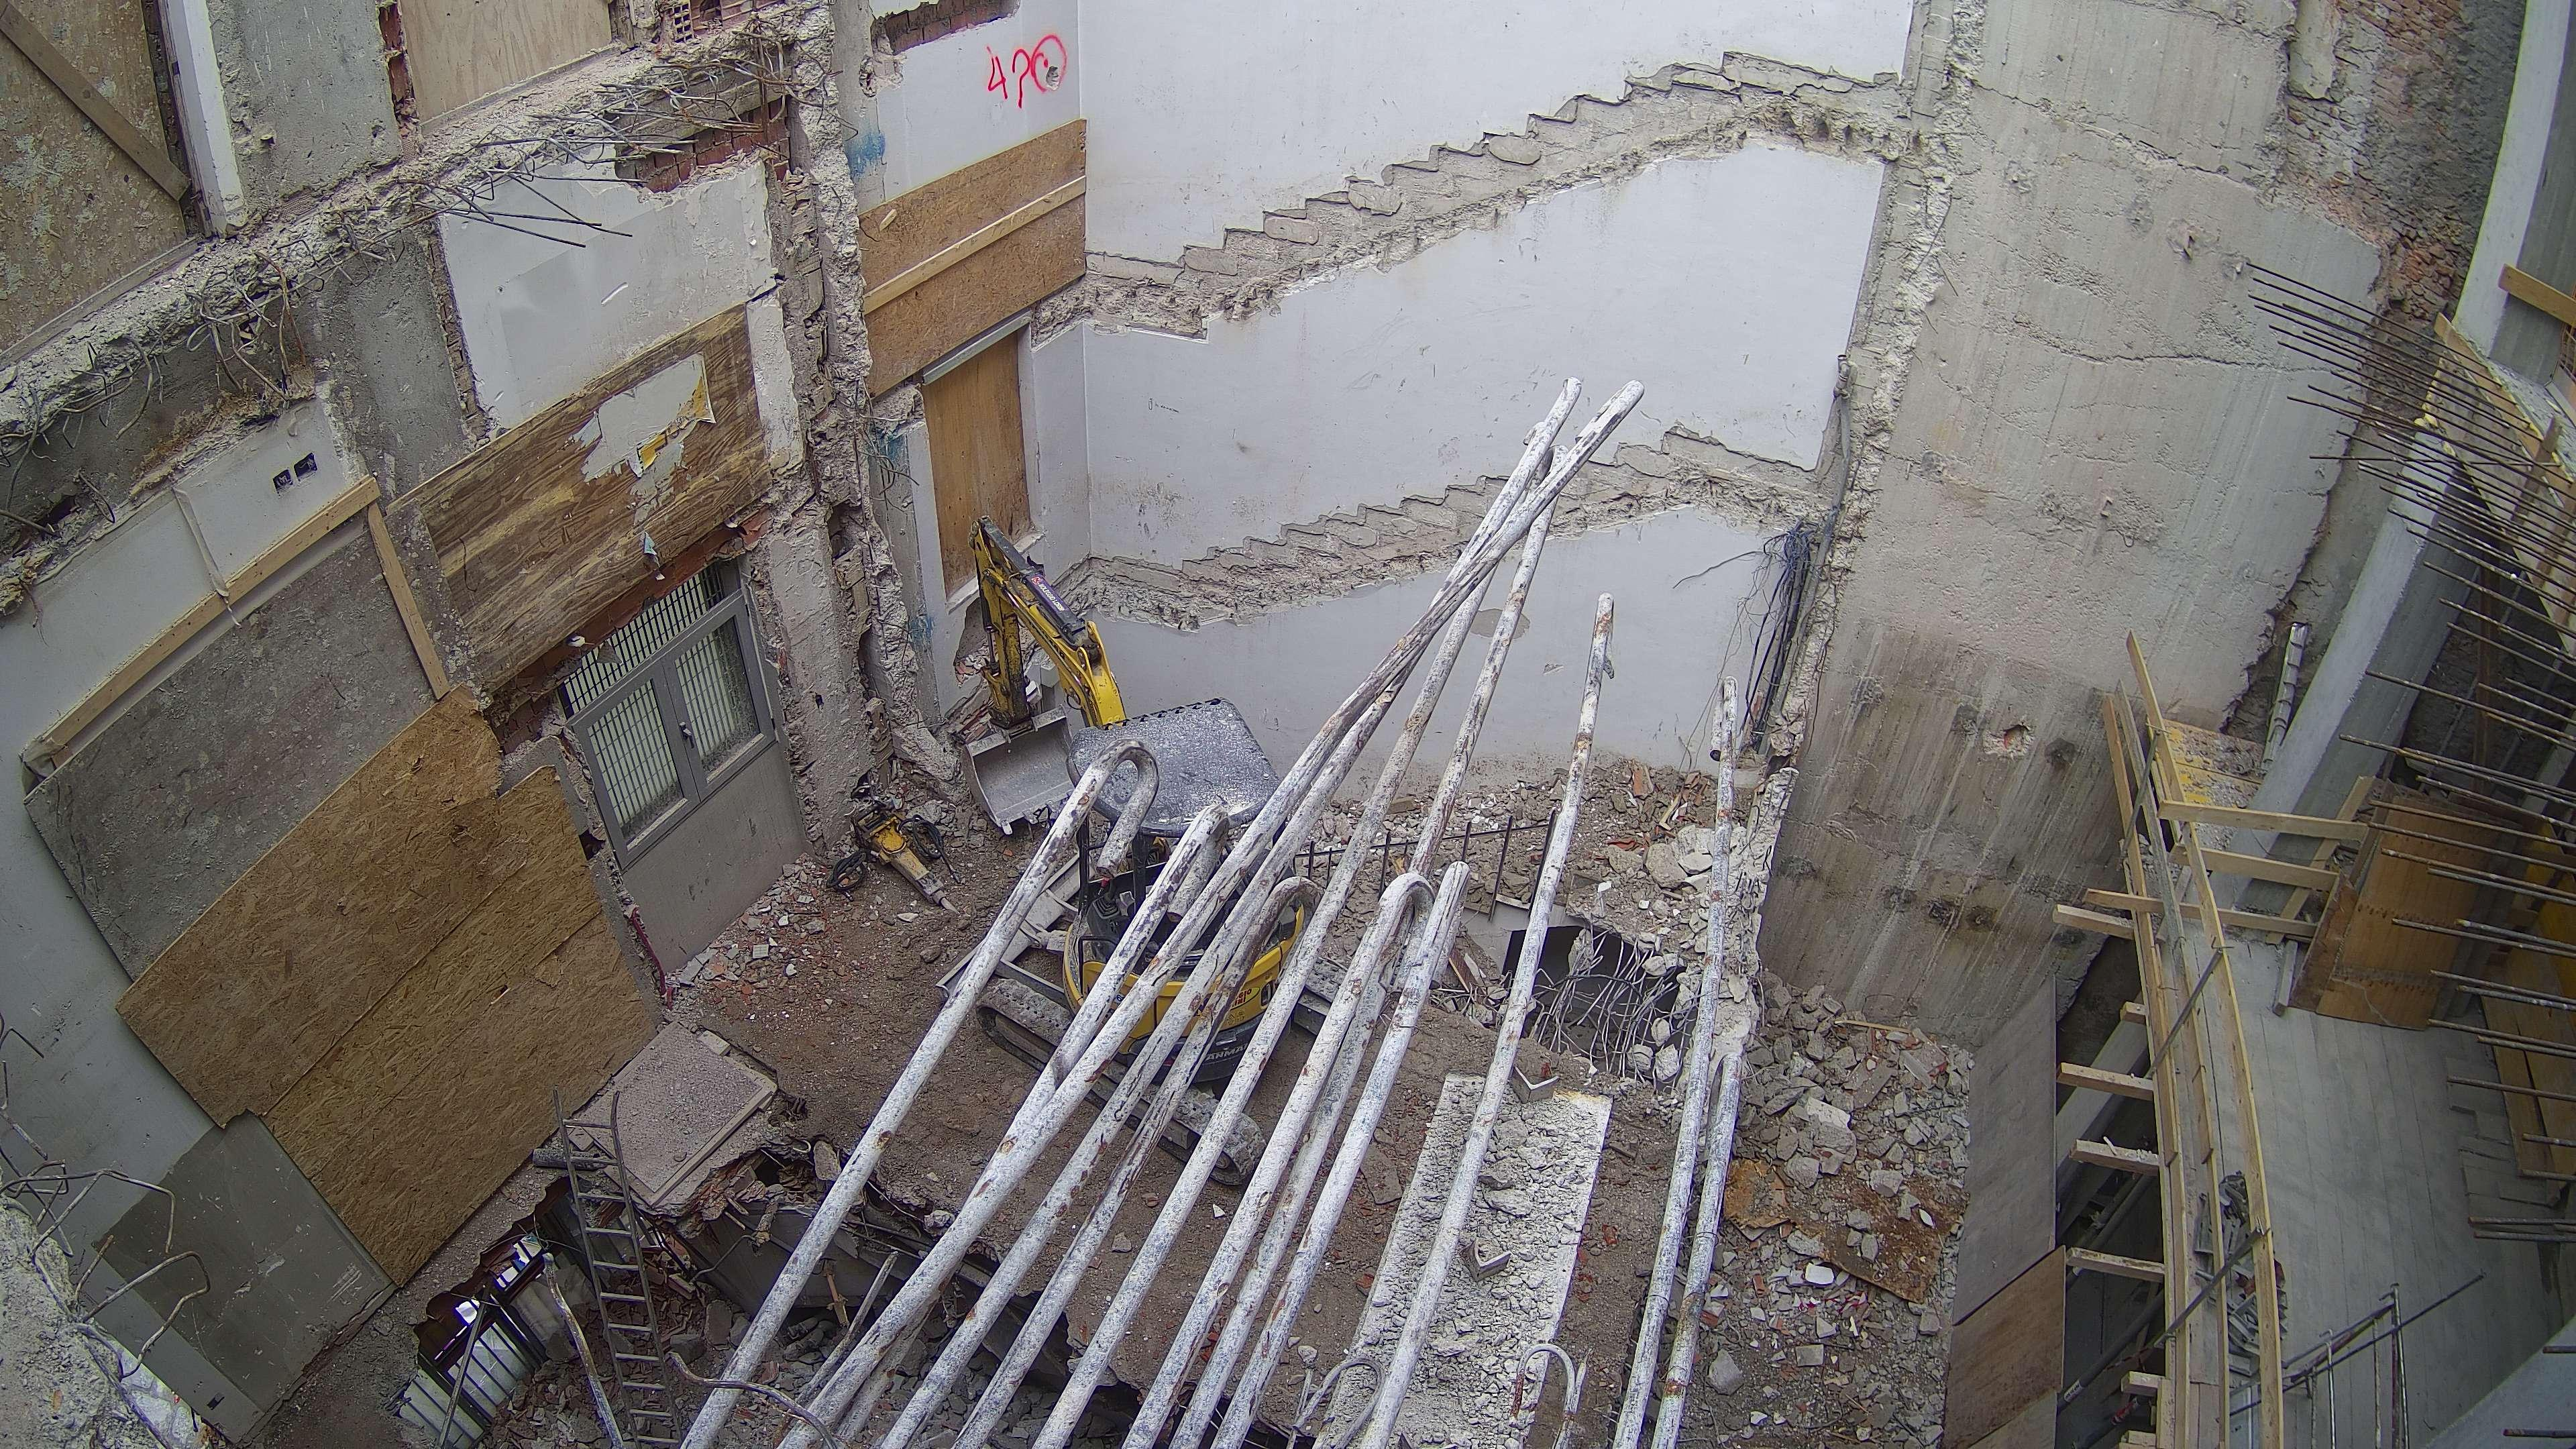excavator: (941, 513, 1339, 1184)
